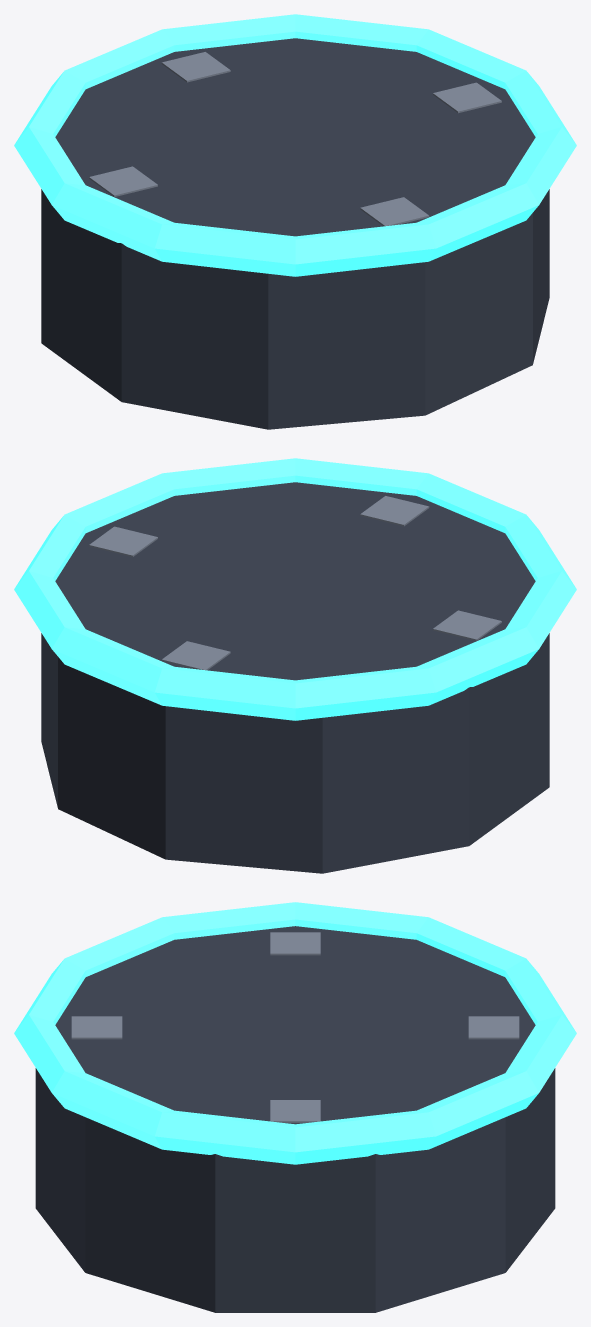
File: prop_machinery_socket.glb
3 views of the same model, one above another, from view 1: azimuth 30°, elevation 25°; view 2: azimuth 150°, elevation 25°; view 3: azimuth 270°, elevation 25° (orthographic).
Parts seen in each view (by area): view 1: prop_machinery_socket; view 2: prop_machinery_socket; view 3: prop_machinery_socket.
Part boxes in pixels (bbox=[...]): prop_machinery_socket: bbox=[14, 14, 576, 429]; prop_machinery_socket: bbox=[14, 458, 576, 873]; prop_machinery_socket: bbox=[14, 902, 576, 1312].
Size of the model in its own units: 1.56 by 0.5921 by 1.56.
